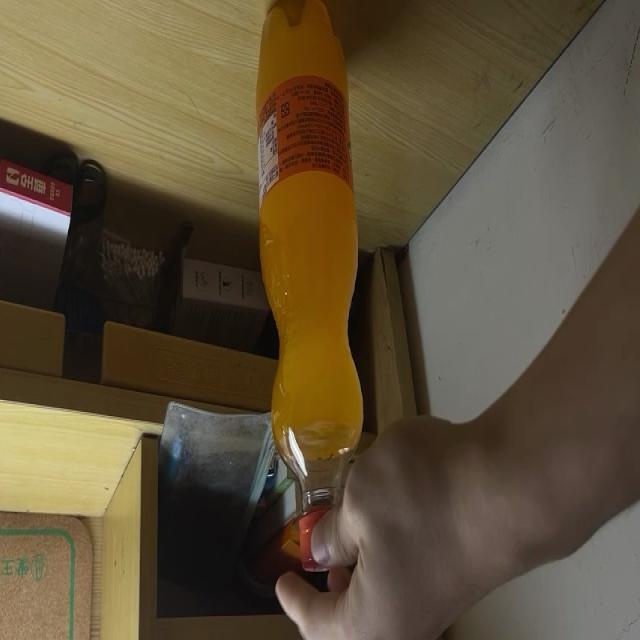Fanta: (256, 0, 364, 570)
